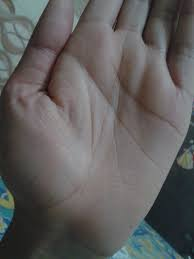hand: (0, 0, 189, 244)
